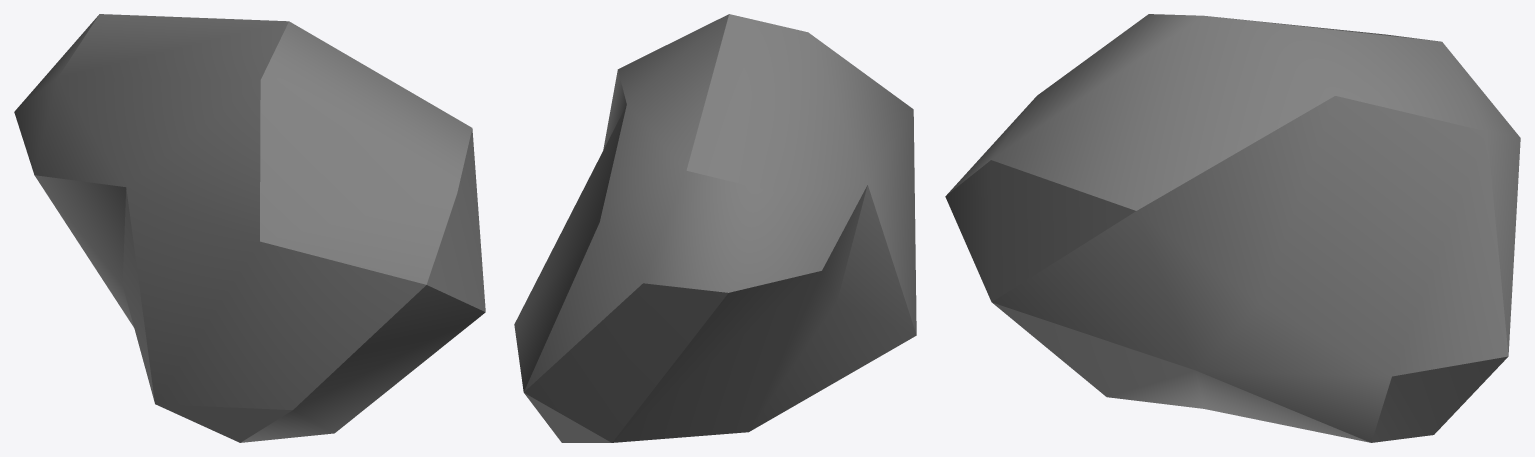
Rendered from rock_big_3.fbx.
3 views of the same model, side by side, from view 1: azimuth 30°, elevation 25°; view 2: azimuth 150°, elevation 25°; view 3: azimuth 270°, elevation 25° (orthographic). The views are drawn at different scales.
Parts seen in each view (by area): view 1: rock_big_3; view 2: rock_big_3; view 3: rock_big_3.
Part boxes in pixels (x1,y1,x2,y2): rock_big_3: [14, 14, 485, 442]; rock_big_3: [514, 14, 916, 442]; rock_big_3: [945, 14, 1520, 442].
Size of the model in its own units: 79.03 by 92.29 by 119.
